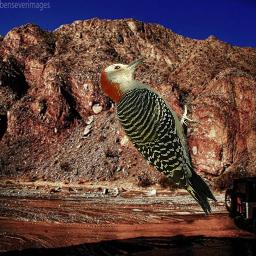Woodpecker: (96, 56, 219, 216)
